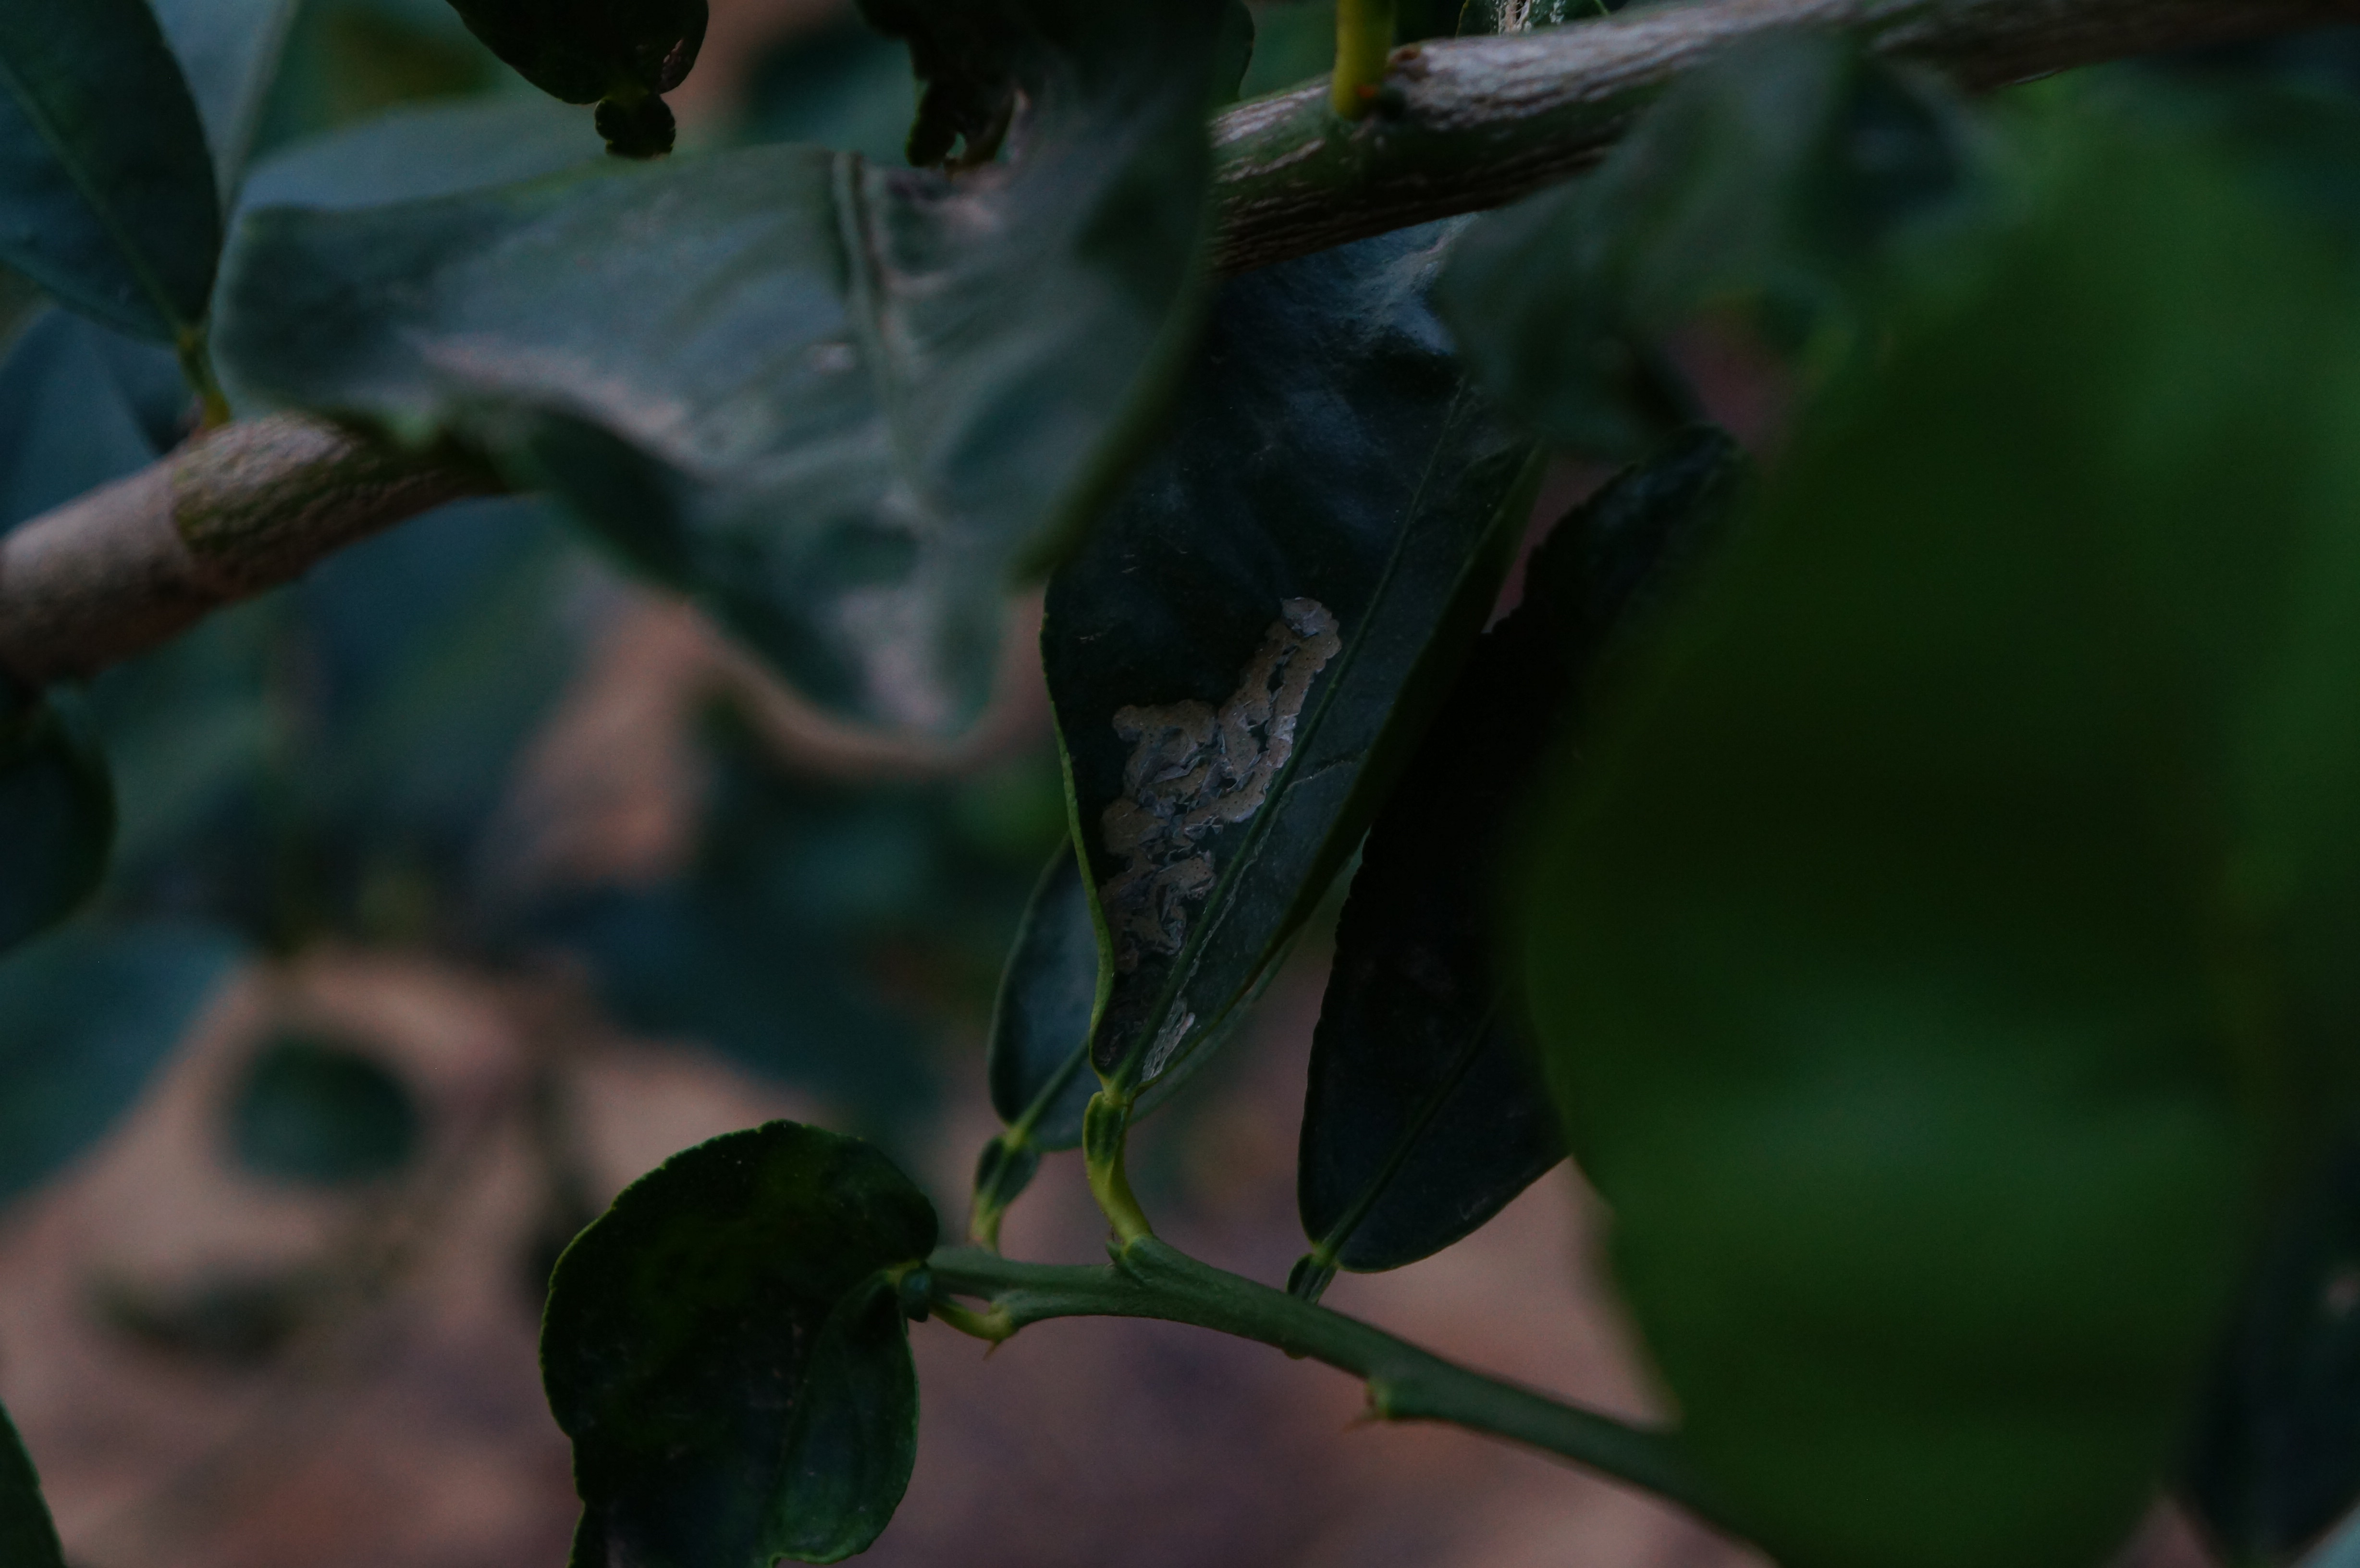damage: (1069, 574, 1366, 1004)
